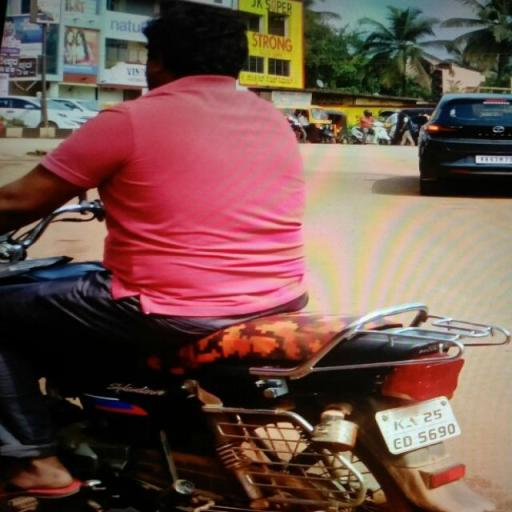bike: (4, 1, 505, 512)
numberplate: (372, 388, 472, 456)
withouthelmet: (146, 9, 251, 81)
